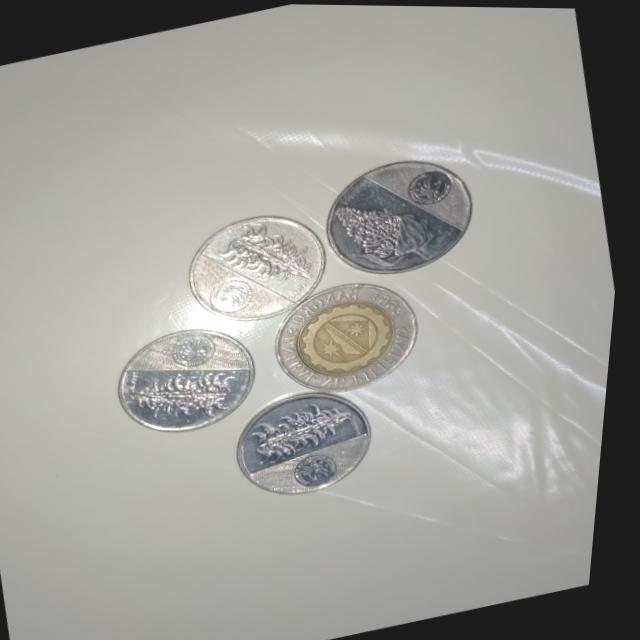10_New_Back: (329, 176, 455, 284)
10_Old_Back: (263, 269, 435, 401)
5_New_Back: (239, 390, 372, 475)
